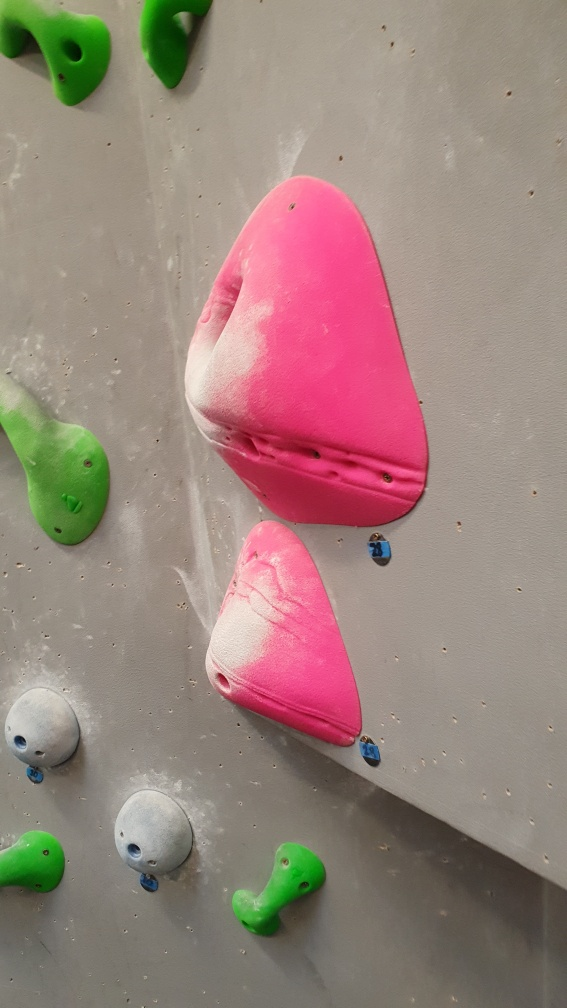Hand Start: (360, 524, 402, 572), (355, 737, 387, 772), (16, 763, 52, 791), (134, 872, 160, 894)
Pocket: (179, 172, 435, 526)
Sloper: (112, 791, 194, 873), (4, 689, 86, 765)
